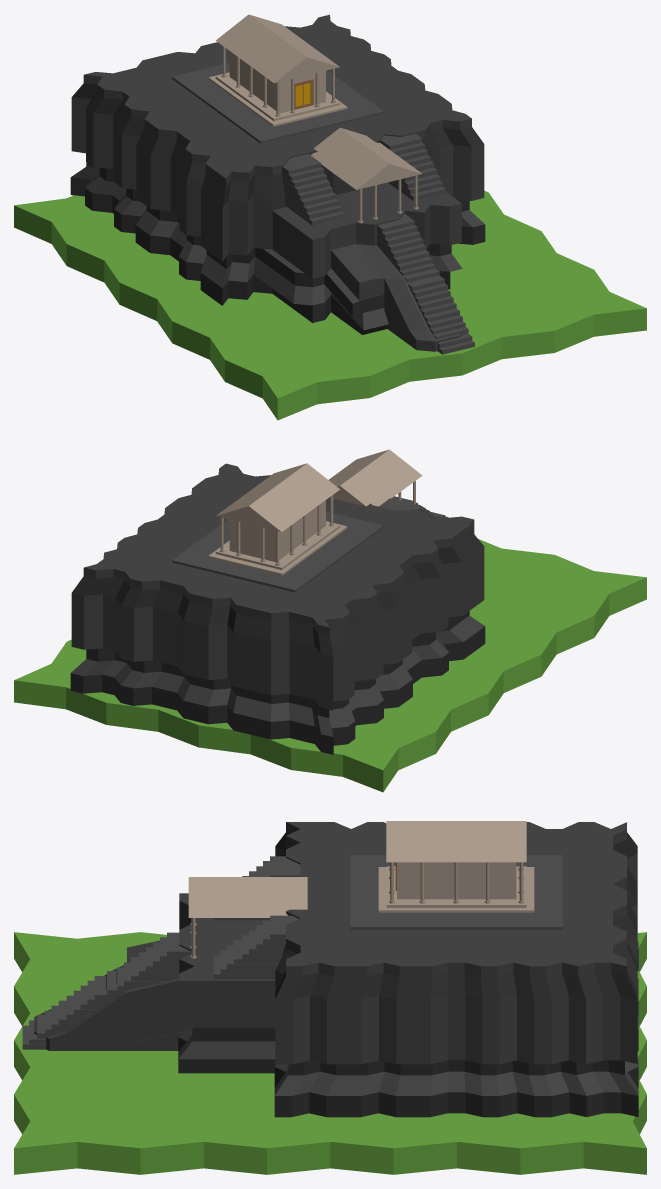
The model's file is mandir.glb.
The picture shows the model from 3 angles, top to bottom: view 1: azimuth 30°, elevation 25°; view 2: azimuth 150°, elevation 25°; view 3: azimuth 270°, elevation 25°; orthographic projection. The views are drawn at different scales.
Parts seen in each view (by area): view 1: Cube.002; view 2: Cube.002; view 3: Cube.002.
Part boxes in pixels (x1=…): Cube.002: x1=14, y1=14, x2=646, y2=420; Cube.002: x1=14, y1=449, x2=646, y2=792; Cube.002: x1=14, y1=821, x2=646, y2=1174.
Bounding box in the file's own units: 30 × 15.89 × 37.12.
Materials: 1 (1 with a texture image).
